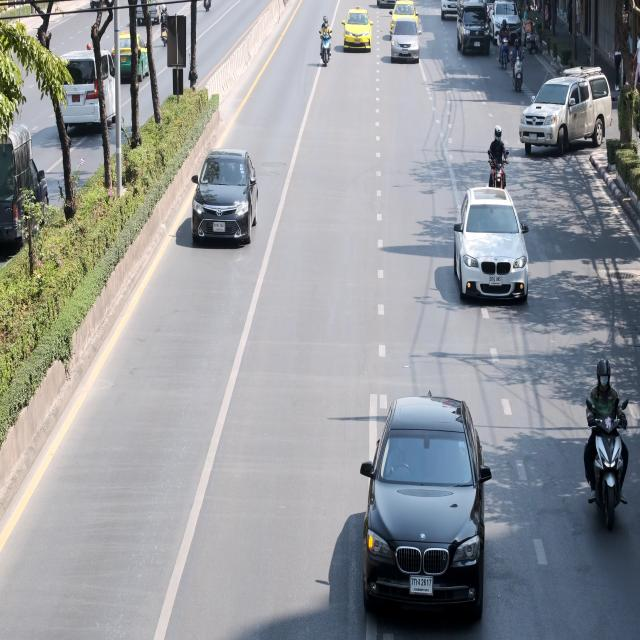cars: (351, 357, 500, 632), (446, 177, 541, 335), (184, 128, 269, 272), (516, 64, 620, 170), (0, 100, 55, 280), (52, 53, 128, 159), (98, 20, 144, 89), (344, 0, 383, 66), (458, 0, 491, 67), (392, 13, 422, 75), (489, 3, 523, 51), (133, 0, 169, 36), (390, 0, 423, 37), (442, 0, 464, 27)
motorcycle: (576, 354, 633, 528), (484, 116, 518, 198), (317, 8, 338, 76), (522, 7, 544, 62), (513, 35, 528, 94), (160, 3, 172, 56), (500, 15, 510, 74)
